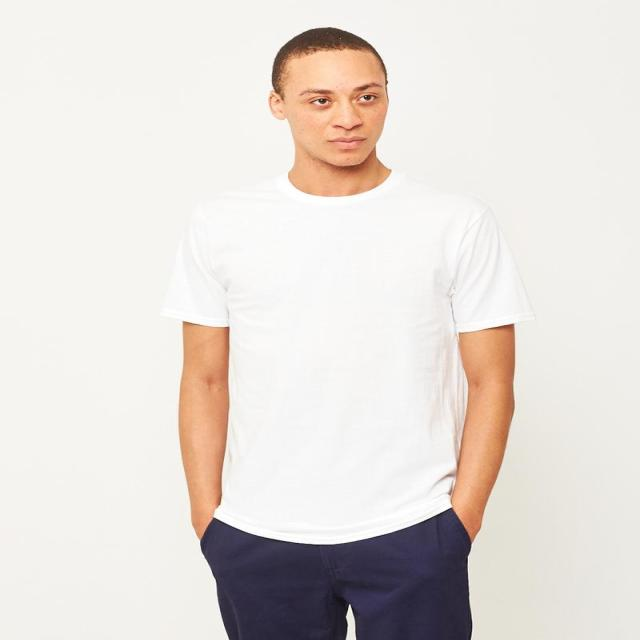human: (159, 21, 534, 640)
